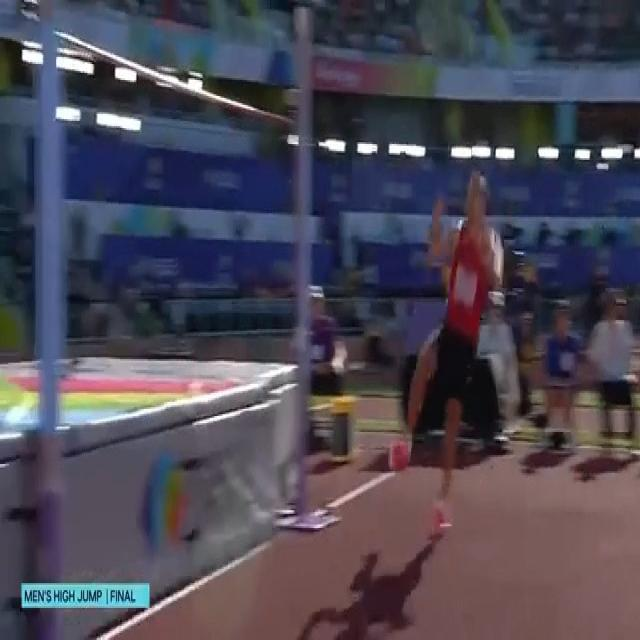jump: (386, 166, 506, 537)
